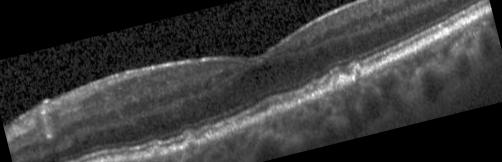retinal_drusen: (337, 75, 349, 90), (185, 139, 198, 151), (354, 67, 362, 81), (152, 148, 161, 158)
